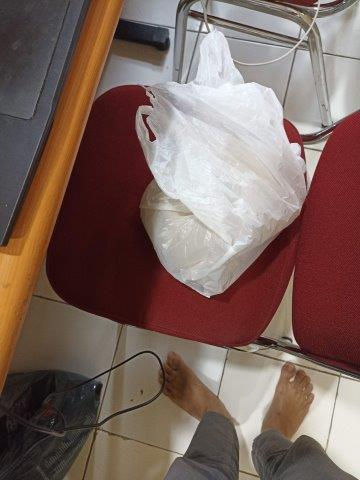plastik: (136, 30, 308, 302)
